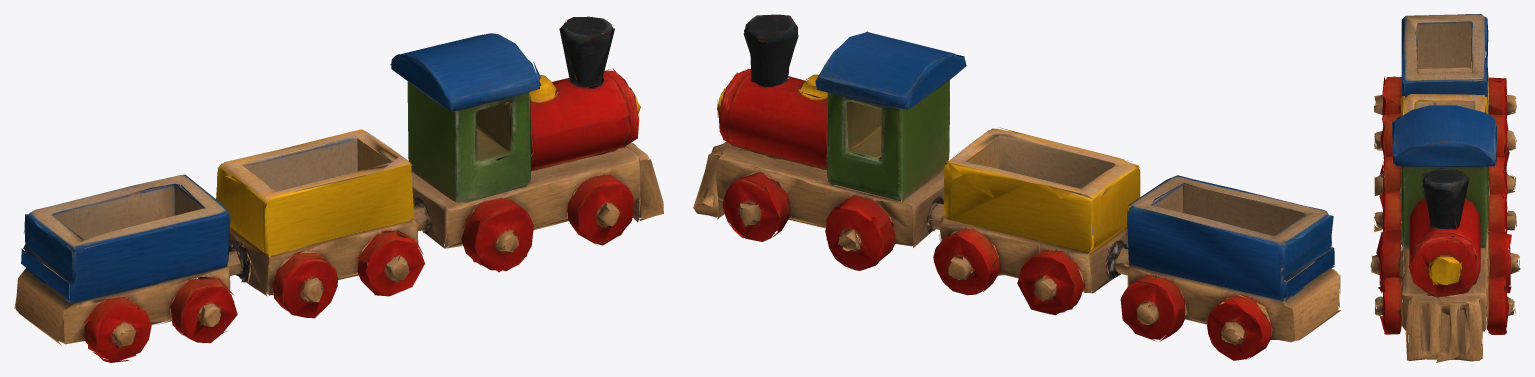
Rendered from kinder_holzeisenbahn.glb.
The picture shows the model from 3 angles, left to right: view 1: azimuth 30°, elevation 25°; view 2: azimuth 150°, elevation 25°; view 3: azimuth 270°, elevation 25°; orthographic projection. The views are drawn at different scales.
Visible parts, largest first — view 1: Prop; view 2: Prop; view 3: Prop.
Part boxes in pixels (bbox=[...]): Prop: bbox=[14, 16, 663, 362]; Prop: bbox=[693, 14, 1341, 360]; Prop: bbox=[1370, 14, 1520, 362].
Bounding box in the file's own units: 3.27 × 1.01 × 0.8116.
Materials: 1 (1 with a texture image).
